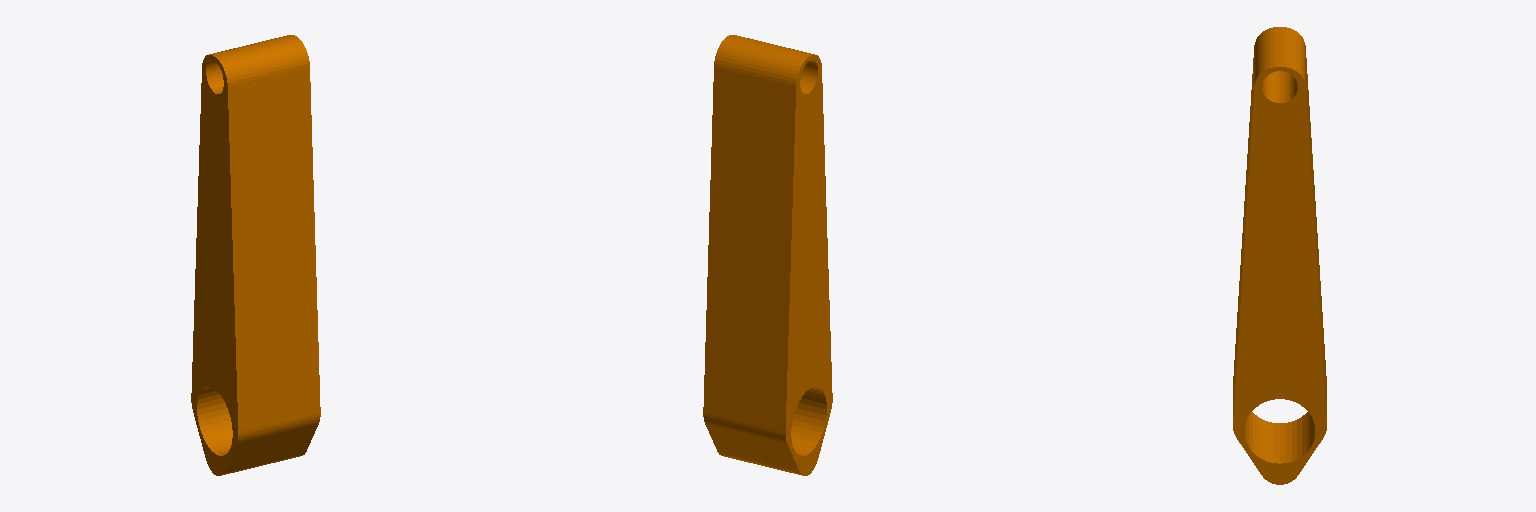
The model's file is l_bt_sus.obj.
3 renders of one model, left to right at view 1: azimuth 30°, elevation 25°; view 2: azimuth 150°, elevation 25°; view 3: azimuth 270°, elevation 25°, orthographic.
Visible parts, largest first — view 1: viper_L_bt_sus; view 2: viper_L_bt_sus; view 3: viper_L_bt_sus.
Part boxes in pixels (x1,y1,x2,y2): viper_L_bt_sus: (191, 35, 320, 475); viper_L_bt_sus: (703, 35, 832, 475); viper_L_bt_sus: (1233, 27, 1326, 484).
Size of the model in its own units: 0.08 by 0.3887 by 0.0794.